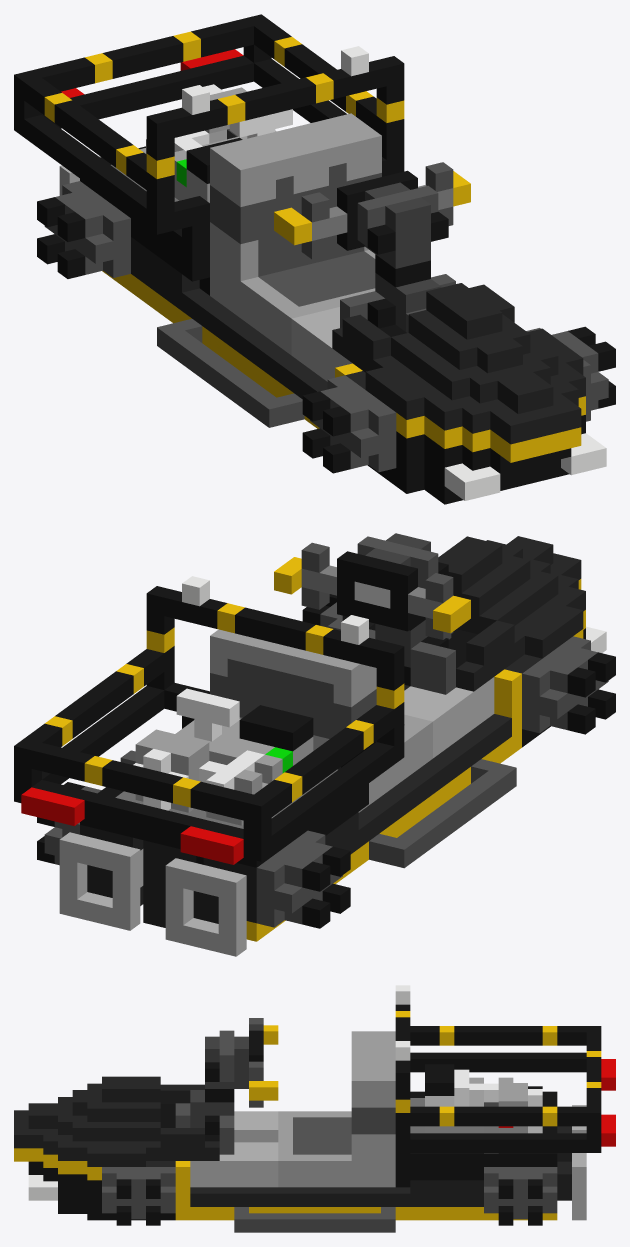
Rendered from Black-Gold_Kart_Chassis.obj.
3 renders of one model, top to bottom at view 1: azimuth 30°, elevation 25°; view 2: azimuth 150°, elevation 25°; view 3: azimuth 270°, elevation 25°, orthographic. The views are drawn at different scales.
Bounding box in the file's own units: 1.6 × 1.4 × 4.1.
Materials: 1 (1 with a texture image).
